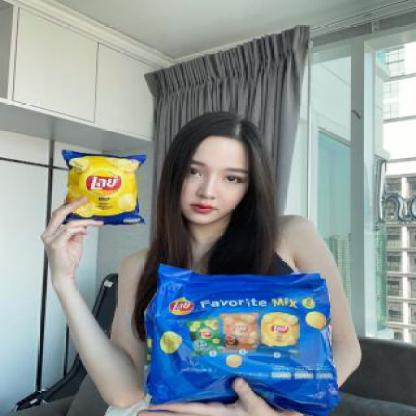potatochip: (60, 147, 144, 227)
